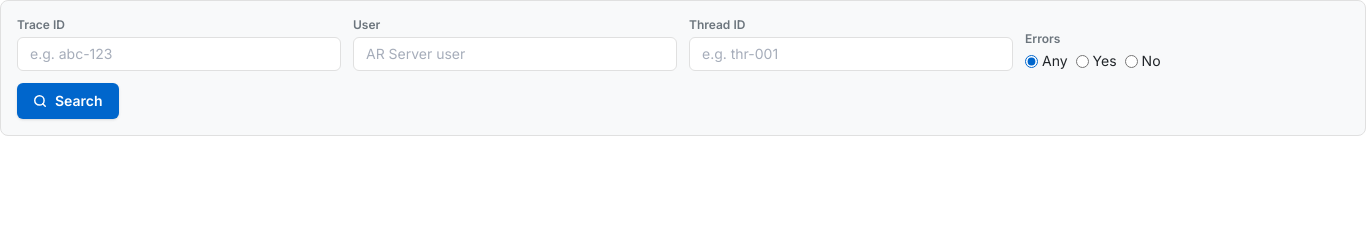
Scenario: TraceSearch › renders user name in result row
The image size is (1366, 241).
Click the button "Search" at (68, 101), box [17,83,118,119]
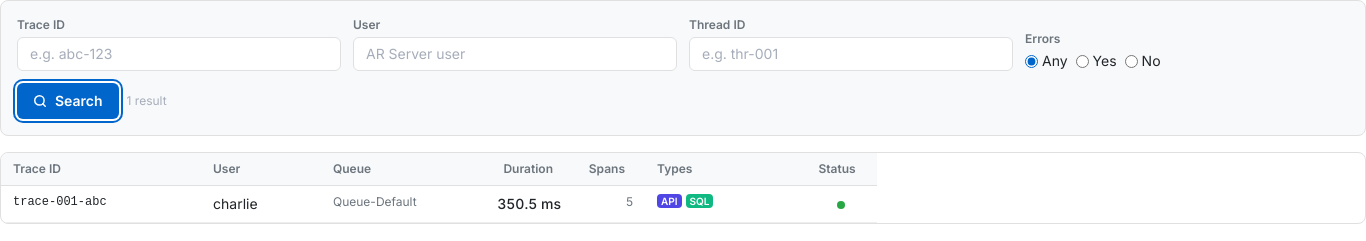
Result: the text "charlie" is shown at [201,186,321,222]
